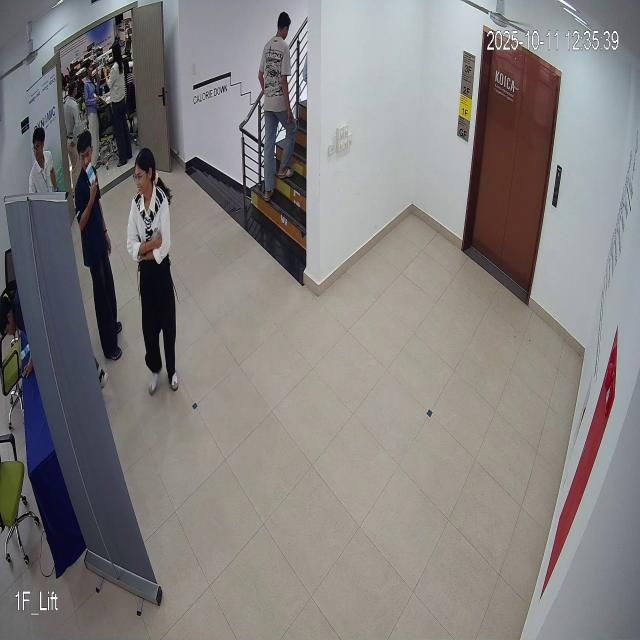face: (133, 142, 160, 205), (76, 125, 94, 175)
